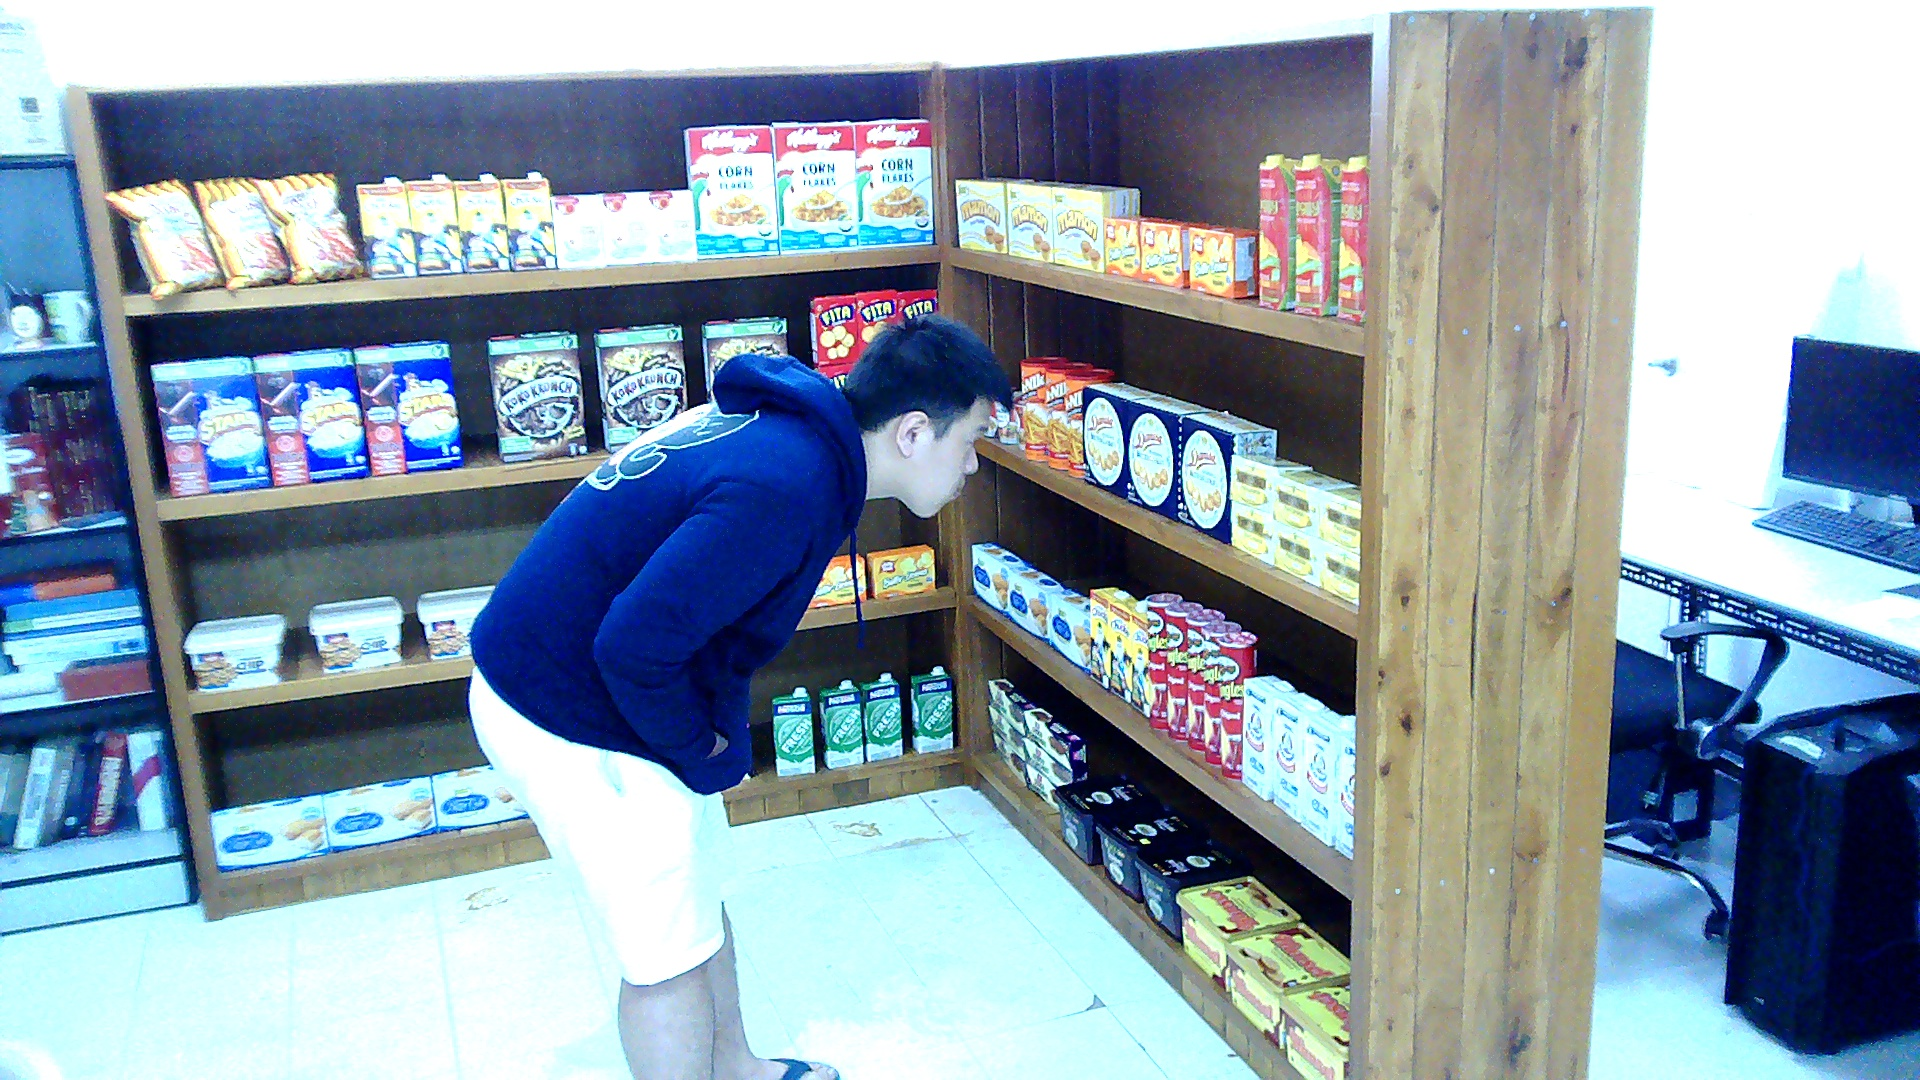Bear brand: (1298, 708, 1355, 845), (1272, 691, 1326, 821), (1242, 675, 1296, 801), (1334, 728, 1355, 861)
Buttercake: (210, 791, 330, 872), (321, 773, 435, 852), (432, 762, 528, 830), (1008, 562, 1068, 643), (972, 540, 1026, 616), (1049, 585, 1088, 675)
Butterlicious: (1191, 225, 1257, 297), (866, 544, 935, 596), (803, 551, 866, 607), (1140, 216, 1188, 288), (1103, 216, 1154, 279)
Camomille: (1275, 468, 1350, 533), (1233, 454, 1305, 513), (1319, 484, 1358, 556), (1275, 522, 1317, 585), (1230, 501, 1272, 562), (1319, 540, 1358, 603)
Choco Crunchies: (1023, 706, 1089, 771), (987, 677, 1041, 733), (1023, 738, 1086, 785), (990, 707, 1023, 761), (990, 731, 1023, 783), (1026, 765, 1056, 810)
Chocolate Chips: (182, 611, 287, 690), (306, 594, 402, 670), (414, 585, 498, 657)
Chuckie: (357, 177, 417, 278), (404, 173, 461, 274), (452, 171, 509, 270), (501, 171, 555, 270), (1089, 585, 1125, 688), (1106, 594, 1139, 702), (1128, 605, 1146, 718)
Danisa: (1175, 409, 1274, 544), (1125, 394, 1209, 518), (1083, 380, 1158, 497)
Fita: (810, 295, 858, 365), (858, 287, 894, 350), (897, 288, 936, 322)
Fresh Milk: (818, 679, 863, 767), (858, 673, 903, 761), (908, 666, 953, 754), (771, 686, 813, 776)
Grahams: (1134, 827, 1260, 940), (1095, 803, 1206, 902), (1053, 772, 1164, 866)
Hansel: (1227, 920, 1350, 1048), (1173, 873, 1299, 992), (1281, 978, 1347, 1077)
Head: (837, 306, 1011, 524)
Honey Stars: (149, 355, 272, 495), (252, 348, 369, 485), (354, 341, 462, 474)
Kellogg Corn Flakes: (687, 126, 777, 256), (774, 124, 858, 252), (855, 121, 933, 247)
Kimchi Noodles: (992, 403, 1013, 443), (1011, 400, 1023, 449)
Koko Krunch: (486, 330, 588, 463), (591, 322, 687, 452), (699, 315, 789, 391)
Locally Mango: (1293, 153, 1341, 315), (1259, 153, 1298, 308), (1334, 154, 1367, 321)
Mamon: (1053, 184, 1137, 270), (954, 176, 1032, 252), (1008, 180, 1077, 261)
Oishi Prawn: (102, 175, 222, 299), (249, 170, 363, 283), (191, 175, 290, 288)
Pik-nik: (1065, 367, 1113, 477), (1017, 355, 1065, 461), (1044, 360, 1092, 468)
Pringles: (1199, 619, 1238, 765), (1217, 630, 1256, 778), (1185, 608, 1224, 752), (1164, 600, 1200, 740), (1146, 591, 1182, 728)
iHop: (551, 194, 602, 266), (645, 189, 696, 261), (597, 189, 648, 263)
